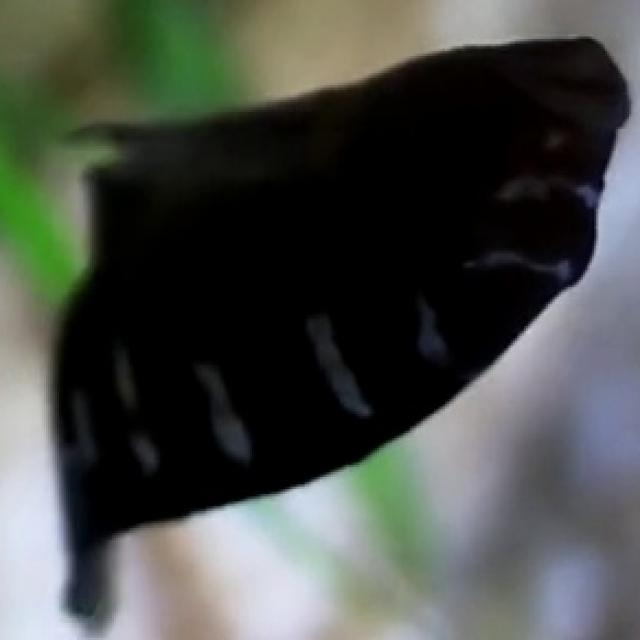fish: (2, 0, 640, 638)
